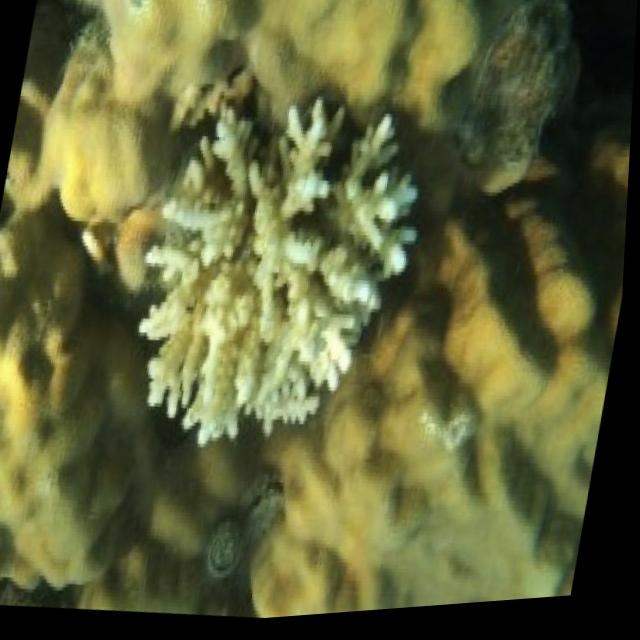Bleached Coral: (80, 62, 448, 462)
